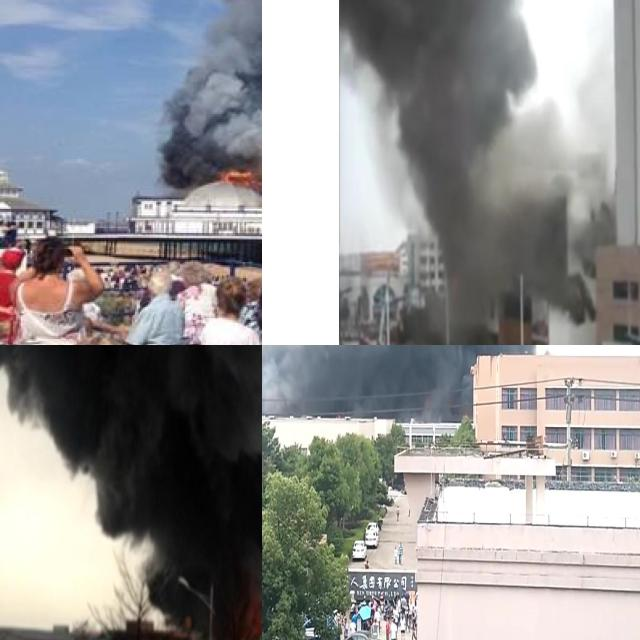fire: (223, 150, 262, 210), (248, 608, 262, 640)
smoke: (337, 0, 616, 318), (0, 345, 262, 634), (158, 0, 262, 197)
